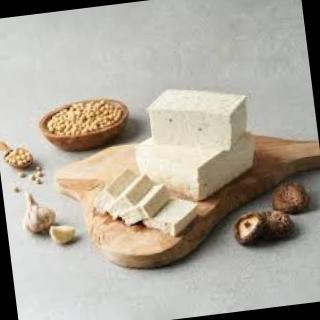Tahu: (129, 80, 267, 204)
